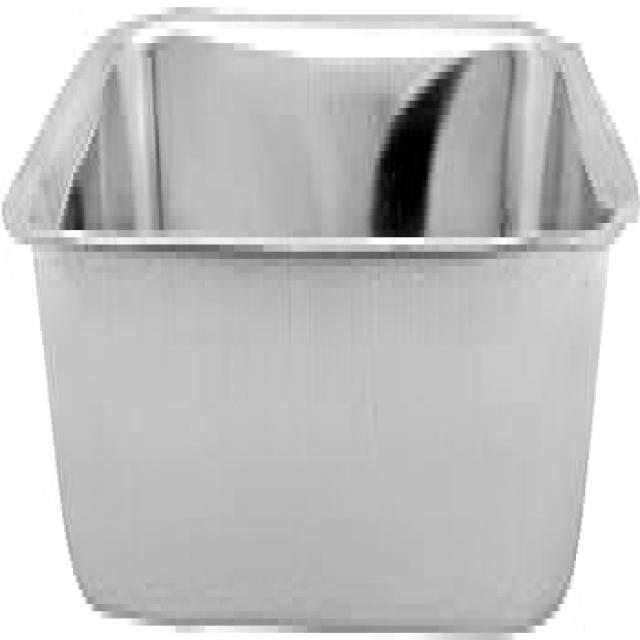Catheter Tray: (4, 3, 638, 640)
